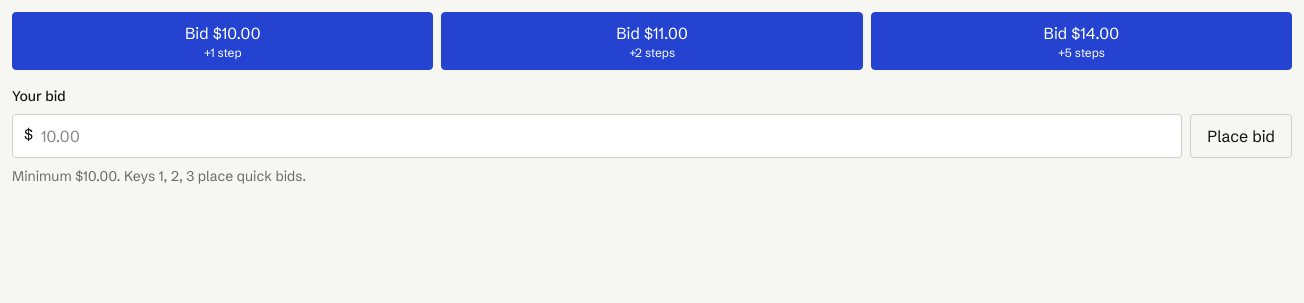
Test: TC-190: network/5xx Retry retains the original key and amount
What coordinates should you click on to do the following:
click the button "Bid $10.00 +1 step"
I would click on:
 (223, 41)
Its box is x1=12 y1=12 x2=433 y2=70.
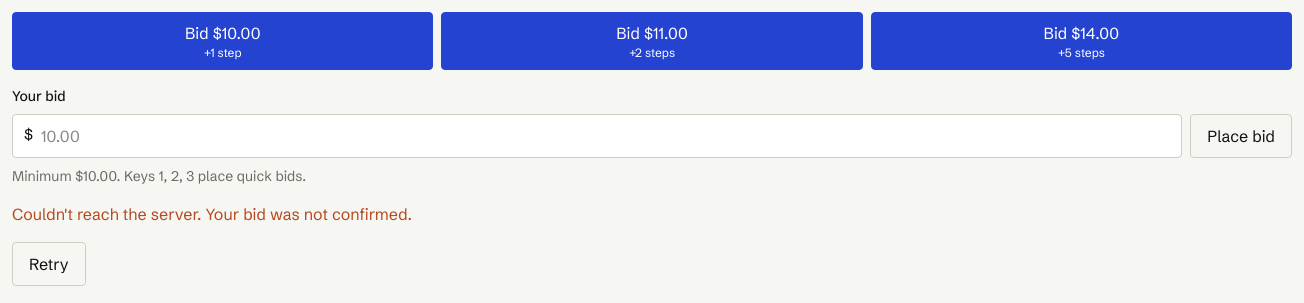
Expected: the message reads "Couldn't reach the server. Your bid was not confirmed.", x1=12 y1=204 x2=412 y2=224
What coordinates should you click on to do the following:
click the button "Retry"
I would click on:
 (49, 264)
Its box is x1=12 y1=242 x2=86 y2=286.
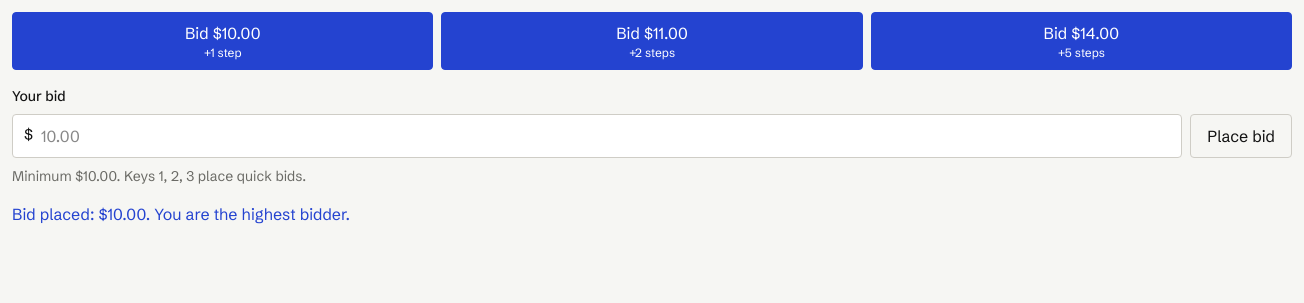
Expected: the button "Retry" is gone
